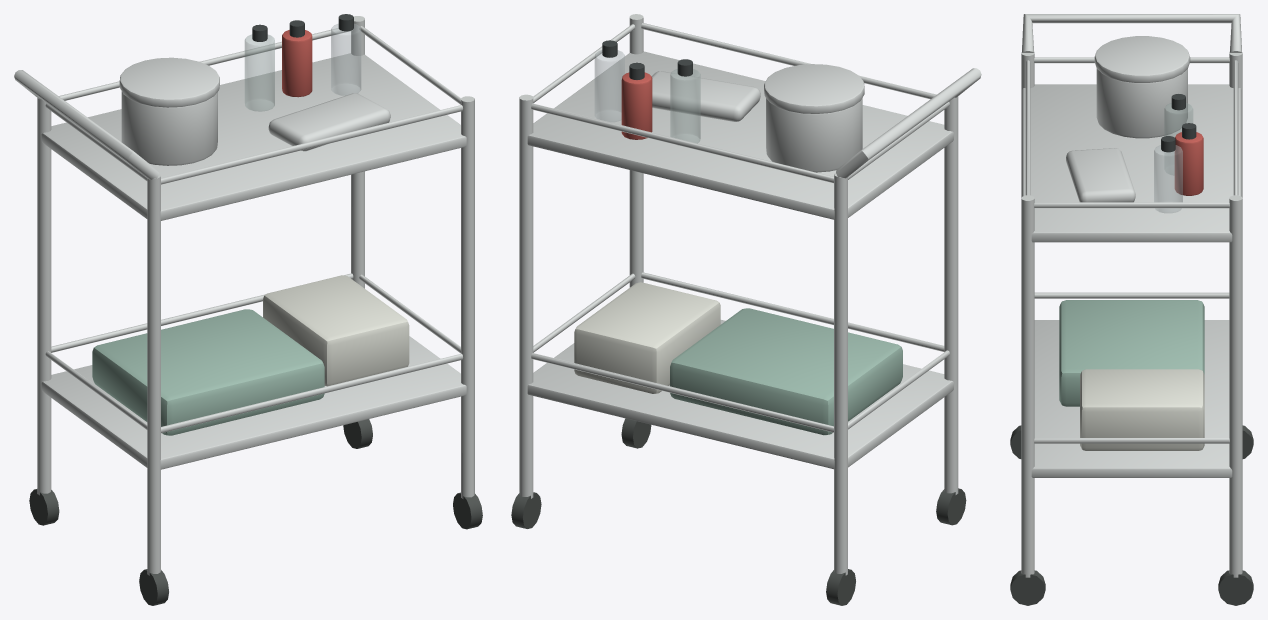
File: CTCC_PROP_InstrumentTrolley.fbx
3 renders of one model, left to right at view 1: azimuth 30°, elevation 25°; view 2: azimuth 150°, elevation 25°; view 3: azimuth 270°, elevation 25°, orthographic. The views are drawn at different scales.
Parts seen in each view (by area): view 1: CTCC_PROP_InstrumentTrolley_LOD0; view 2: CTCC_PROP_InstrumentTrolley_LOD0; view 3: CTCC_PROP_InstrumentTrolley_LOD0.
Part boxes in pixels (x1,y1,x2,y2): CTCC_PROP_InstrumentTrolley_LOD0: [14, 14, 482, 605]; CTCC_PROP_InstrumentTrolley_LOD0: [511, 14, 981, 605]; CTCC_PROP_InstrumentTrolley_LOD0: [1010, 14, 1253, 605].
Size of what is drawn, in the model's own units: 0.7323 by 0.949 by 0.468.
